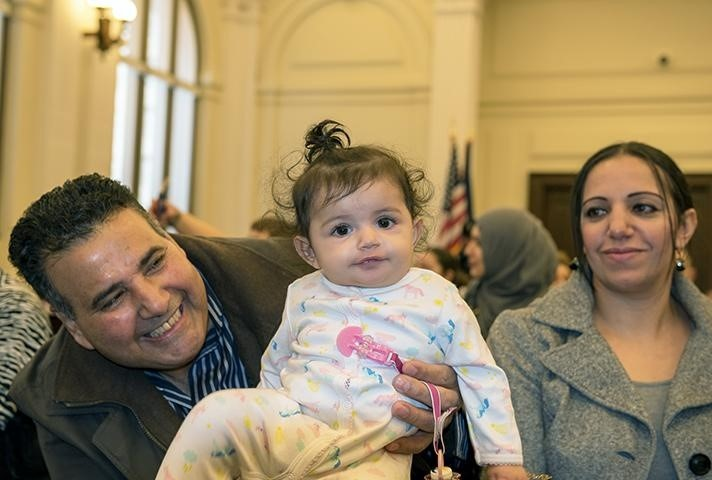face_no_mask: (11, 172, 209, 369), (298, 124, 426, 285), (571, 140, 697, 289)
